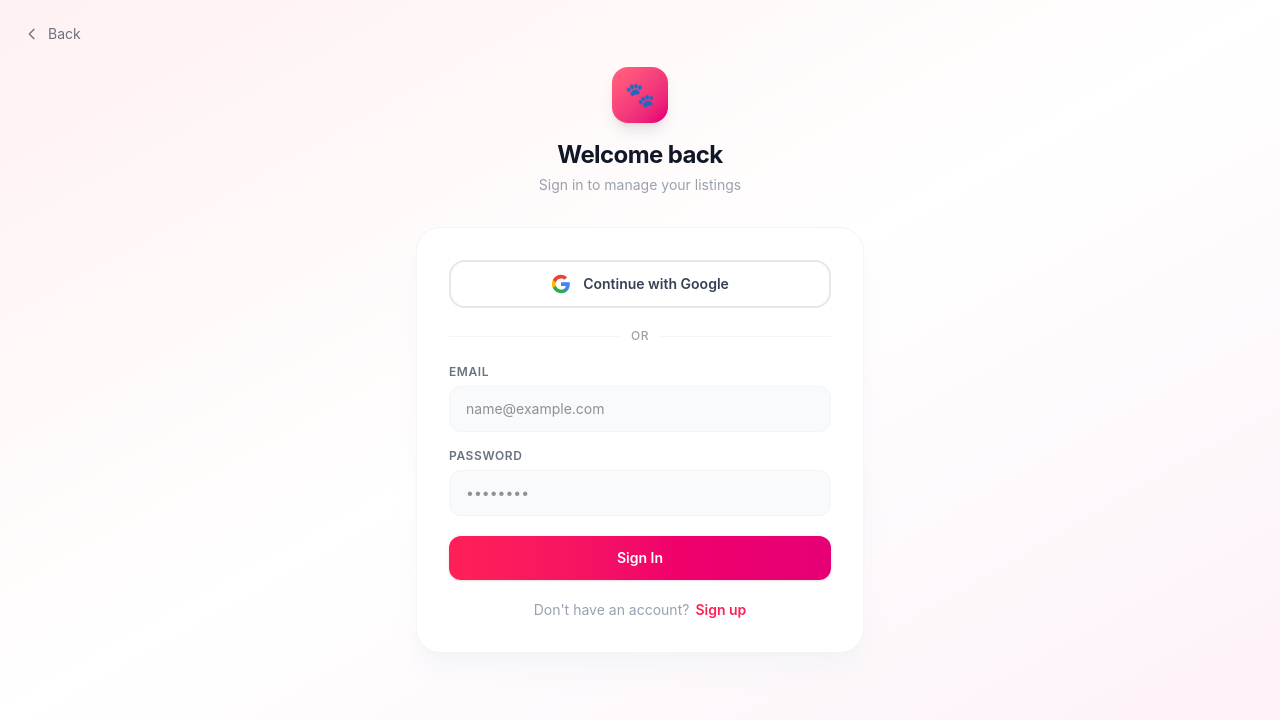
Test: Login Page - Error Handling › Requirement 6.3: Network Connectivity Error Handling › should display connectivity message when network fails during OAuth
Click the button with aria-label "sign in with google" at (640, 284), box [449,260,831,308]
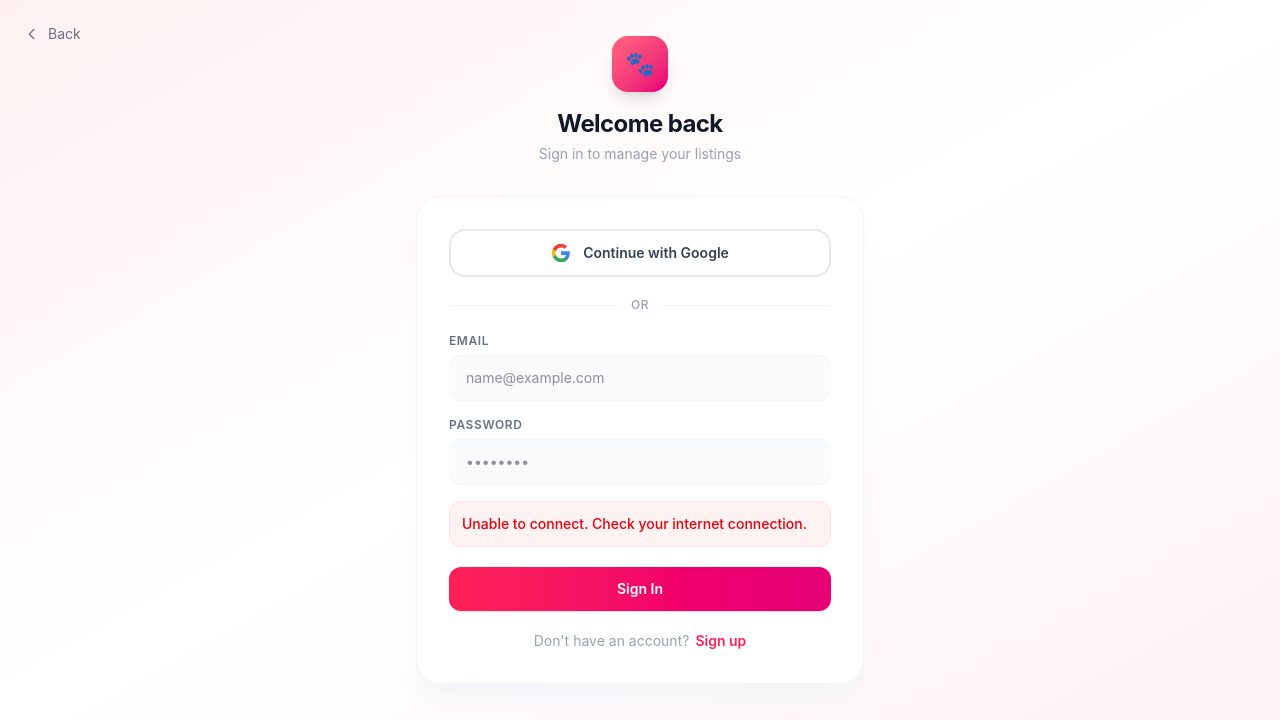
Expected: the text "Unable to connect. Check your internet connection." is shown, [449,501,831,547]
